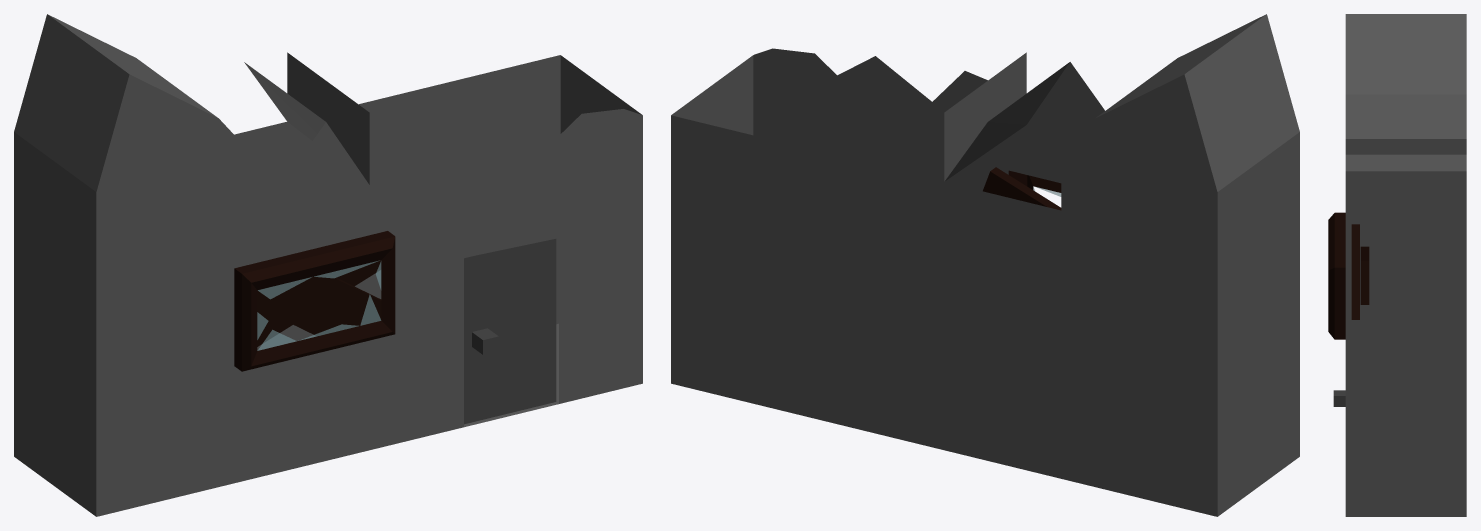
File: home1@out_close_s.FBX
3 renders of one model, left to right at view 1: azimuth 30°, elevation 25°; view 2: azimuth 150°, elevation 25°; view 3: azimuth 270°, elevation 25°, orthographic. The views are drawn at different scales.
Parts seen in each view (by area): view 1: Box001, Object002, Object001; view 2: Object002, Box001; view 3: Box001, Object001.
Boxes of the visible parts, <box> form: Box001: <box>14,14,642,516</box>; Object002: <box>234,55,560,350</box>; Object001: <box>464,239,556,424</box>; Object002: <box>671,115,1217,516</box>; Box001: <box>671,14,1299,516</box>; Box001: <box>1328,14,1466,516</box>; Object001: <box>1333,390,1345,406</box>.
Bounding box in the file's own units: 54.92 × 41.72 × 16.39.
